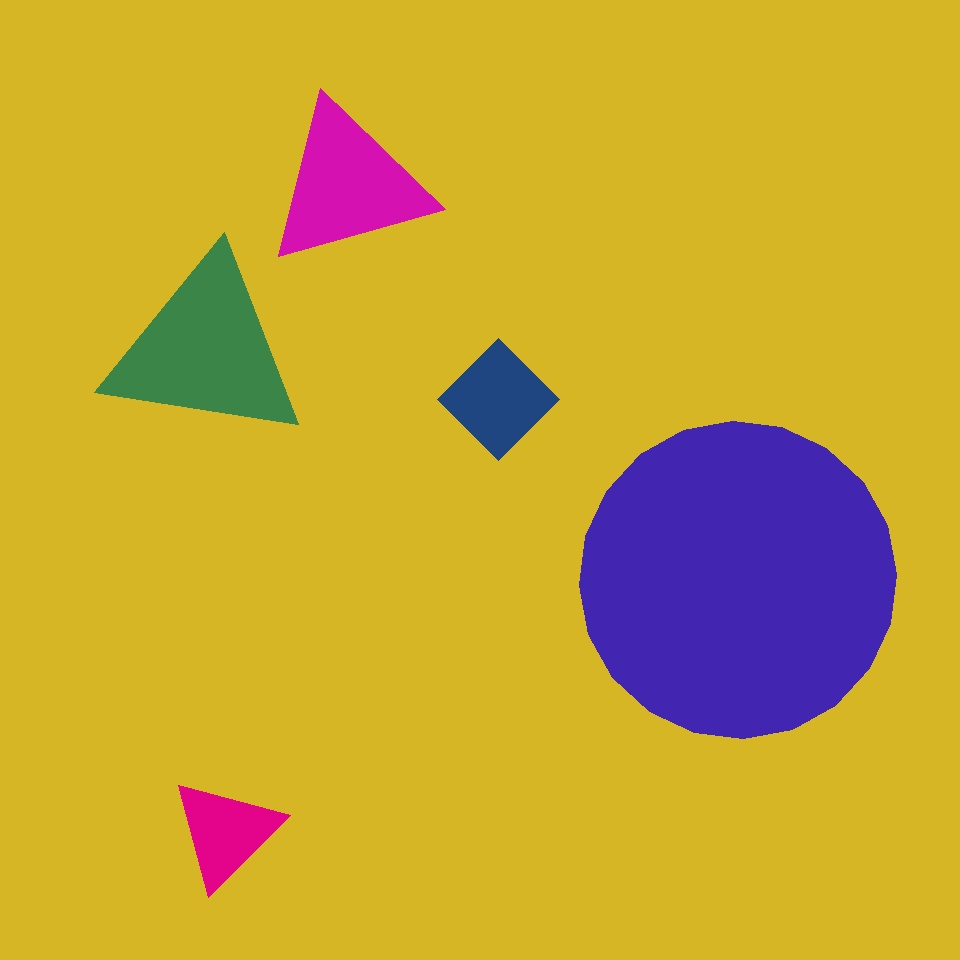circle: (656, 250, 903, 522), (397, 188, 628, 415), (104, 254, 308, 446), (264, 101, 432, 269), (170, 777, 282, 889)
square: (437, 338, 559, 460)
triangle: (580, 421, 896, 738), (712, 660, 912, 860), (712, 84, 893, 265)
